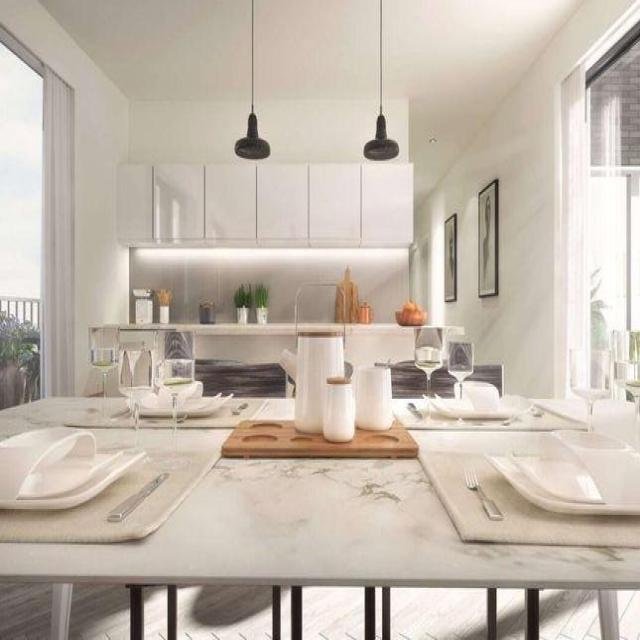Wall: (1, 0, 250, 395), (416, 0, 639, 374), (384, 0, 580, 193), (410, 203, 555, 395), (130, 247, 409, 323), (42, 0, 249, 99), (255, 0, 378, 99), (256, 98, 376, 162), (178, 585, 271, 639), (395, 589, 484, 637), (70, 587, 127, 638), (305, 589, 362, 638), (541, 593, 599, 637), (0, 585, 47, 637), (384, 98, 409, 161), (145, 589, 166, 638), (500, 593, 522, 637), (619, 593, 640, 637), (282, 591, 290, 638)
